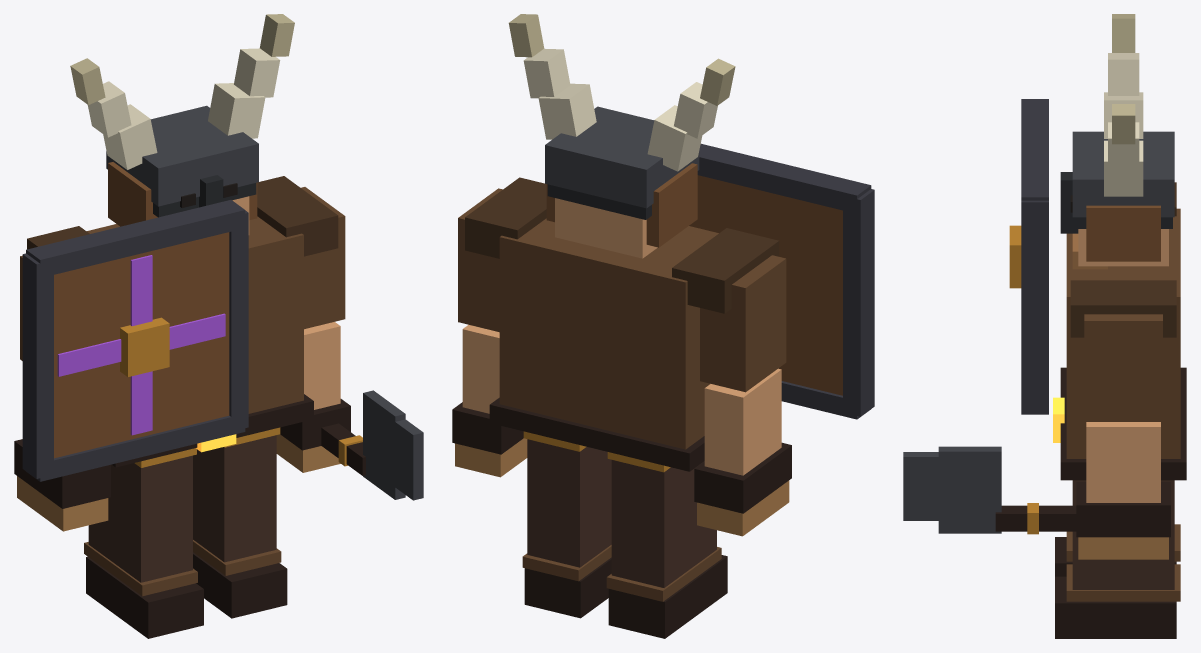
The model's file is villains__viking.glb.
3 views of the same model, side by side, from view 1: azimuth 30°, elevation 25°; view 2: azimuth 150°, elevation 25°; view 3: azimuth 270°, elevation 25° (orthographic). The views are drawn at different scales.
Parts seen in each view (by area): view 1: shield, villains__viking, rig_legL, rig_armR, rig_legR, rig_armL; view 2: villains__viking, shield, rig_armL, rig_legL, rig_legR, rig_armR; view 3: villains__viking, rig_armR, rig_legR, shield, rig_legL.
Part boxes in pixels (x1,y1,x2,y2): shield: (22, 200, 248, 481); villains__viking: (27, 14, 338, 467); rig_legL: (84, 448, 203, 638); rig_armR: (276, 187, 423, 500); rig_legR: (193, 427, 287, 618); rig_armL: (14, 255, 110, 531); villains__viking: (465, 14, 779, 471); shield: (689, 143, 874, 419); rig_armL: (694, 255, 791, 536); rig_legL: (606, 452, 727, 638); rig_legR: (522, 431, 611, 618); rig_armR: (452, 188, 527, 477); villains__viking: (1053, 14, 1186, 480); rig_armR: (903, 314, 1170, 559); rig_legR: (1055, 480, 1180, 638); shield: (1009, 99, 1048, 414); rig_legL: (1055, 524, 1180, 576).
Size of the model in its own units: 1.97 by 3.05 by 1.44.
